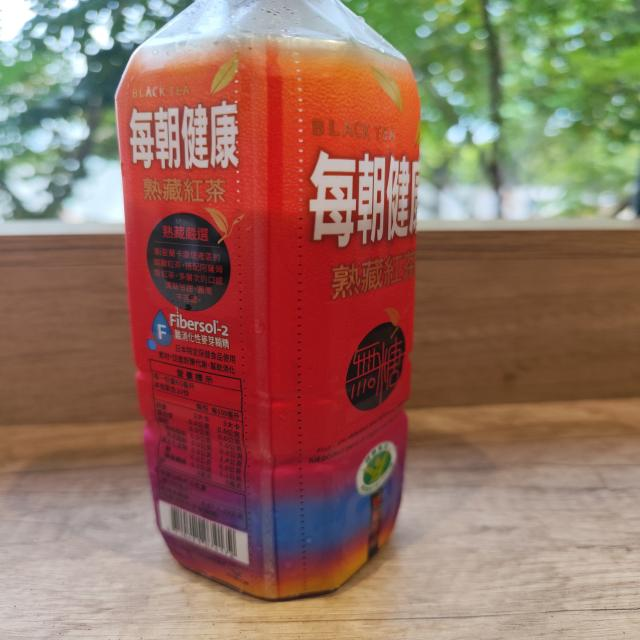MeiChou_BlackTea: (118, 0, 422, 599)
